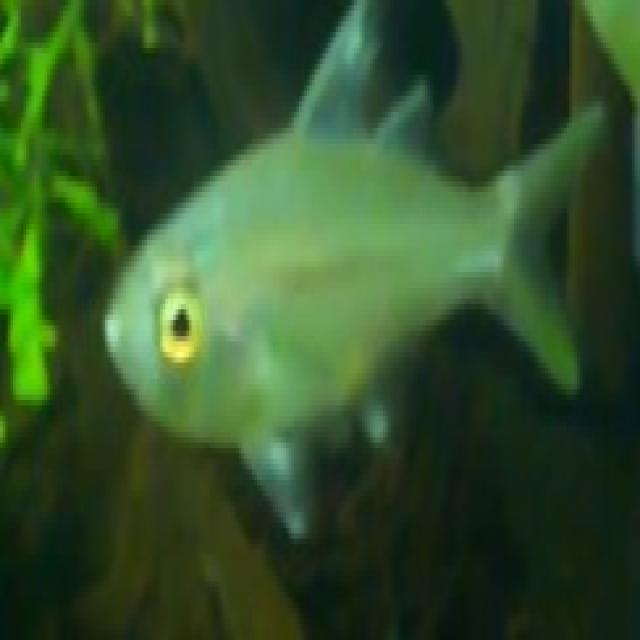Glass-Perchlet: (78, 23, 610, 520)
